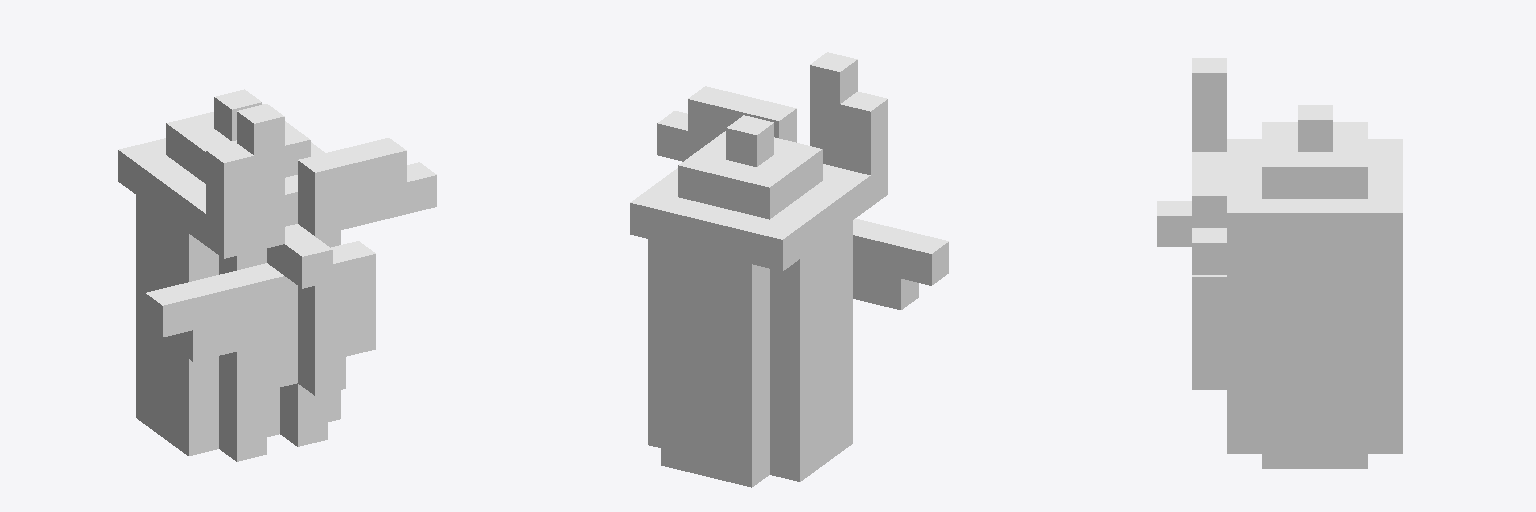
File: overworld-21-props_windmill.obj
The picture shows the model from 3 angles: view 1: azimuth 30°, elevation 25°; view 2: azimuth 150°, elevation 25°; view 3: azimuth 270°, elevation 25°; orthographic projection.
Visible parts, largest first — view 1: props_windmill; view 2: props_windmill; view 3: props_windmill.
Part boxes in pixels (left/top/right/bottom): props_windmill: left=118, top=89, right=436, bottom=461; props_windmill: left=630, top=52, right=948, bottom=487; props_windmill: left=1157, top=58, right=1402, bottom=468.
Size of the model in its own units: 0.9 by 1.1 by 0.7.